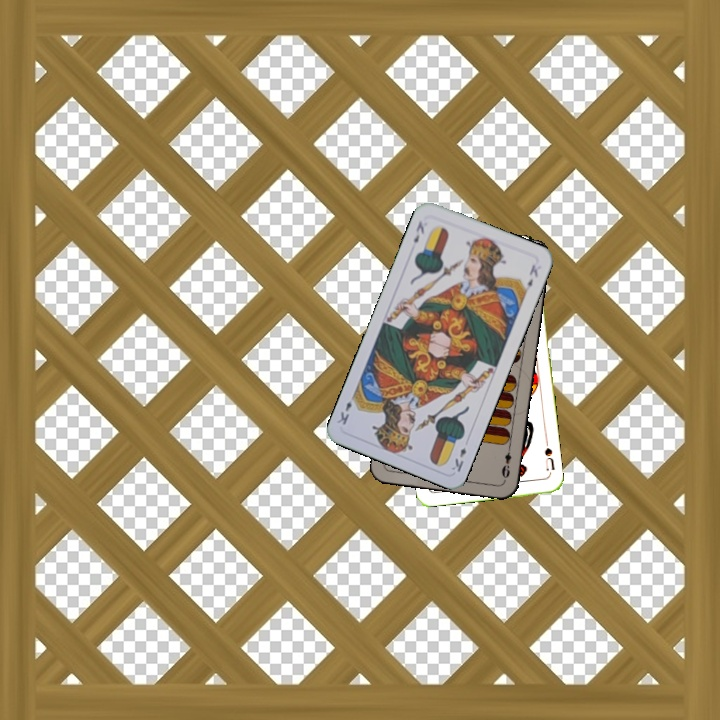E9: (498, 442, 514, 482)
EK: (447, 443, 469, 475), (409, 217, 427, 245)
SU: (540, 444, 557, 473)
